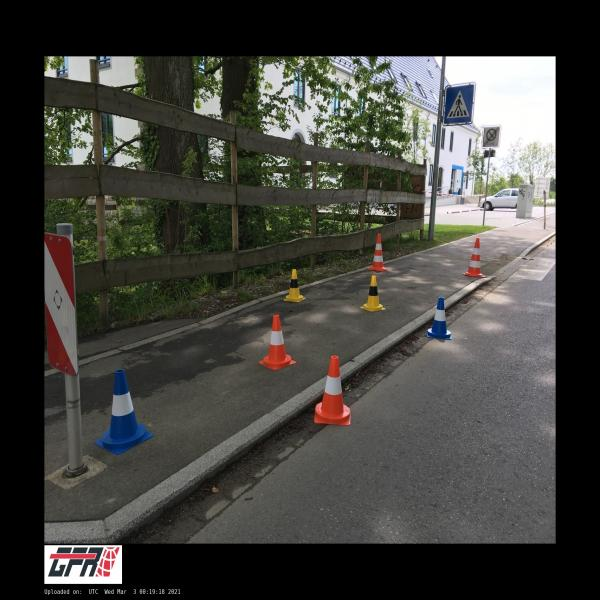blue_cone: (94, 369, 154, 454), (427, 297, 451, 340)
large_orange_cone: (462, 238, 486, 278), (368, 234, 388, 271)
orange_cone: (314, 355, 351, 425), (260, 315, 296, 370)
yellow_cone: (360, 275, 386, 311), (284, 269, 306, 302)
